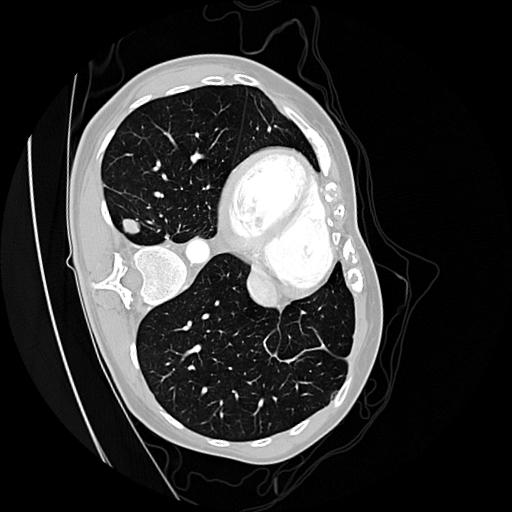nodule: (119, 217, 145, 243)
